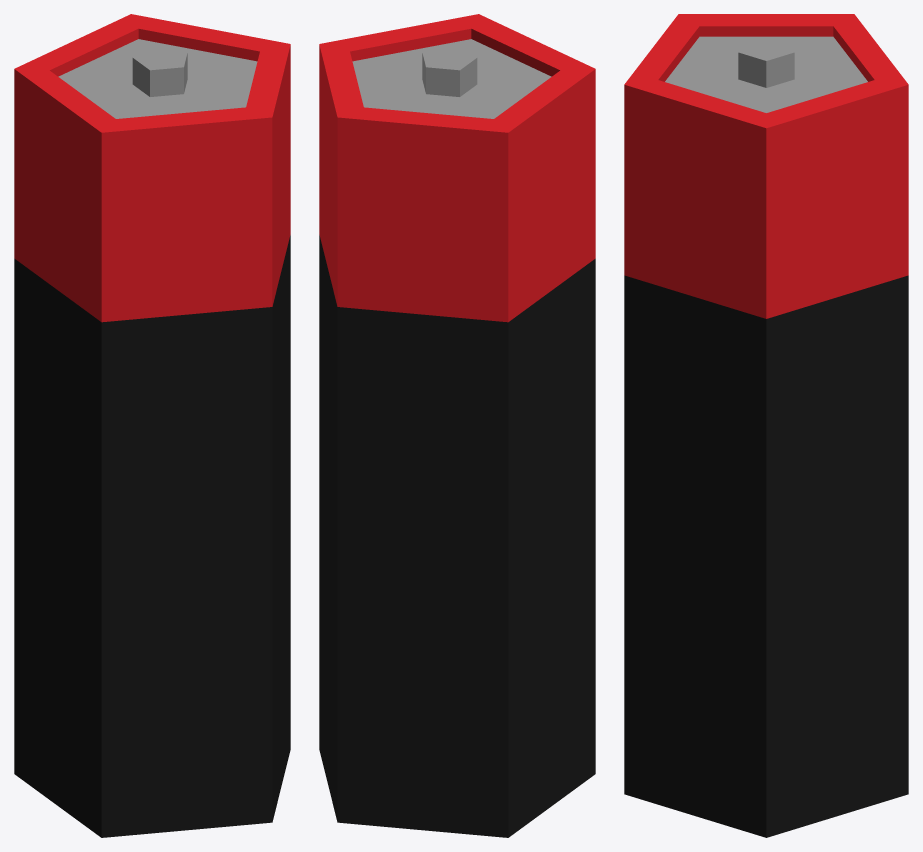
File: Battery2.FBX.glb
The picture shows the model from 3 angles, left to right: view 1: azimuth 30°, elevation 25°; view 2: azimuth 150°, elevation 25°; view 3: azimuth 270°, elevation 25°; orthographic projection.
Parts seen in each view (by area): view 1: Battery1.1; view 2: Battery1.1; view 3: Battery1.1.
Part boxes in pixels (x1=…): Battery1.1: x1=14, y1=14, x2=290, y2=837; Battery1.1: x1=319, y1=14, x2=595, y2=837; Battery1.1: x1=624, y1=14, x2=908, y2=837.
Bounding box in the file's own units: 3.7 × 10.96 × 3.89.
1 material, 1 textured.
